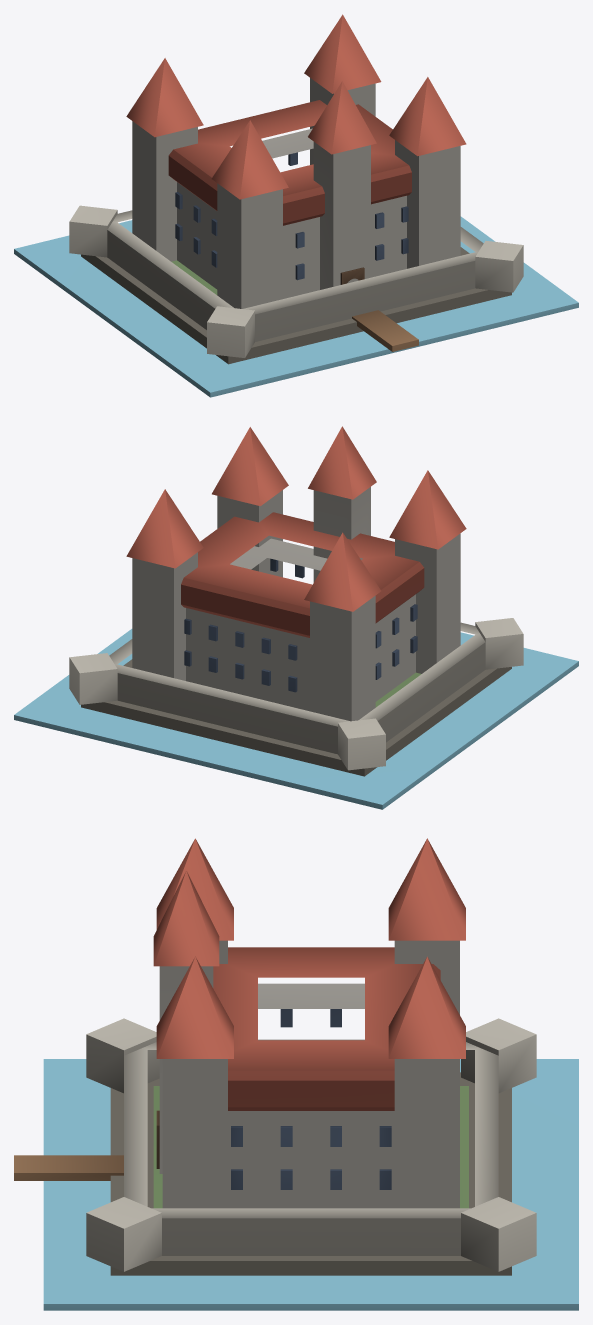
The model's file is fagaras.glb.
3 renders of one model, top to bottom at view 1: azimuth 30°, elevation 25°; view 2: azimuth 150°, elevation 25°; view 3: azimuth 270°, elevation 25°, orthographic. The views are drawn at different scales.
Visible parts, largest first — view 1: fagaras_plaster, fagaras_roofRed, fagaras_stoneGray, fagaras_water, fagaras_stoneDark, fagaras_window, fagaras_wood; view 2: fagaras_plaster, fagaras_roofRed, fagaras_water, fagaras_stoneGray, fagaras_stoneDark, fagaras_window; view 3: fagaras_roofRed, fagaras_water, fagaras_plaster, fagaras_stoneGray, fagaras_stoneDark, fagaras_wood, fagaras_window, fagaras_grass.
Boxes of the visible parts, x1,y1,x2,y2 form: fagaras_plaster: [132, 78, 460, 308]; fagaras_roofRed: [126, 14, 466, 225]; fagaras_stoneGray: [69, 205, 523, 357]; fagaras_water: [14, 216, 578, 397]; fagaras_stoneDark: [81, 247, 511, 364]; fagaras_window: [175, 152, 408, 280]; fagaras_wood: [352, 310, 418, 351]; fagaras_plaster: [132, 487, 460, 721]; fagaras_roofRed: [126, 426, 466, 637]; fagaras_water: [14, 629, 578, 809]; fagaras_stoneGray: [69, 618, 523, 770]; fagaras_stoneDark: [81, 659, 511, 776]; fagaras_window: [184, 558, 417, 692]; fagaras_roofRed: [153, 838, 465, 1110]; fagaras_water: [43, 1059, 578, 1310]; fagaras_plaster: [159, 940, 459, 1208]; fagaras_stoneGray: [86, 1018, 536, 1271]; fagaras_stoneDark: [110, 1072, 511, 1275]; fagaras_wood: [14, 1155, 123, 1180]; fagaras_window: [231, 1009, 391, 1189]; fagaras_grass: [153, 1086, 468, 1208].
Bounding box in the file's own units: 1.95 × 1.18 × 1.9.
